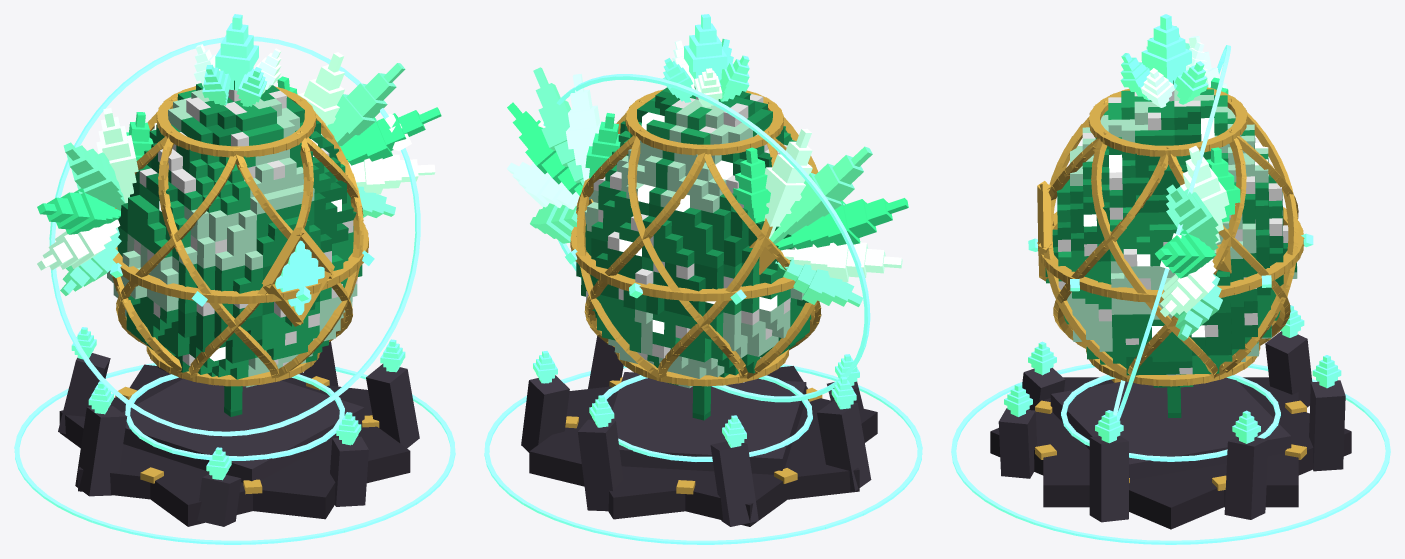
File: egg_epico_esmeralda.glb
The picture shows the model from 3 angles, left to right: view 1: azimuth 30°, elevation 25°; view 2: azimuth 150°, elevation 25°; view 3: azimuth 270°, elevation 25°; orthographic projection.
Visible parts, largest first — view 1: root_geo, shell_geo, egg_geo, wing_R_geo, wing_L_geo, orbit1_geo, crown_geo, floor_rings_geo, emblem_geo; view 2: root_geo, shell_geo, egg_geo, wing_R_geo, wing_L_geo, crown_geo, orbit1_geo, floor_rings_geo; view 3: root_geo, shell_geo, egg_geo, wing_L_geo, crown_geo, floor_rings_geo, orbit1_geo, emblem_geo, wing_R_geo.
Part boxes in pixels (x1,y1,x2,y2): root_geo: [58, 327, 419, 526]; shell_geo: [107, 80, 362, 416]; egg_geo: [110, 86, 374, 386]; wing_R_geo: [37, 108, 153, 295]; wing_L_geo: [277, 52, 441, 217]; orbit1_geo: [49, 36, 420, 436]; crown_geo: [194, 14, 281, 106]; floor_rings_geo: [14, 363, 455, 544]; emblem_geo: [262, 227, 334, 326]; root_geo: [521, 336, 877, 526]; shell_geo: [576, 85, 811, 420]; egg_geo: [565, 89, 821, 386]; wing_R_geo: [733, 128, 908, 306]; wing_L_geo: [507, 67, 620, 243]; crown_geo: [663, 14, 749, 107]; orbit1_geo: [538, 74, 870, 402]; floor_rings_geo: [484, 364, 922, 544]; root_geo: [990, 305, 1351, 529]; shell_geo: [1045, 80, 1297, 417]; egg_geo: [1028, 87, 1313, 386]; wing_L_geo: [1155, 146, 1240, 341]; crown_geo: [1120, 14, 1208, 107]; floor_rings_geo: [951, 363, 1390, 544]; orbit1_geo: [1113, 45, 1230, 420]; emblem_geo: [1037, 181, 1051, 281]; wing_R_geo: [1175, 26, 1228, 93].
Size of the model in its own units: 7.68 by 8.07 by 7.31.
